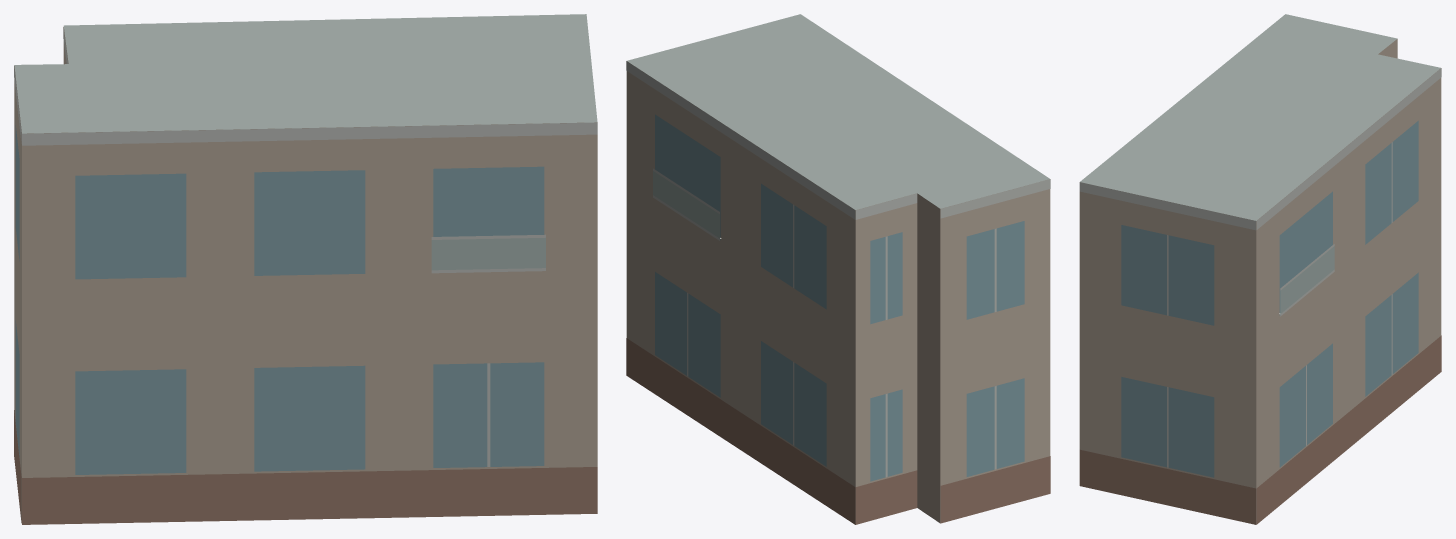
File: survey-upis-32625187.glb
3 views of the same model, side by side, from view 1: azimuth 30°, elevation 25°; view 2: azimuth 150°, elevation 25°; view 3: azimuth 270°, elevation 25° (orthographic). The views are drawn at different scales.
Parts seen in each view (by area): view 1: survey-upis-32625187.tmp; view 2: survey-upis-32625187.tmp; view 3: survey-upis-32625187.tmp.
Boxes of the visible parts, x1,y1,x2,y2 form: survey-upis-32625187.tmp: (14, 14, 597, 524); survey-upis-32625187.tmp: (626, 14, 1050, 524); survey-upis-32625187.tmp: (1079, 14, 1441, 524).
Bounding box in the file's own units: 11.4 × 7.8 × 8.42.
